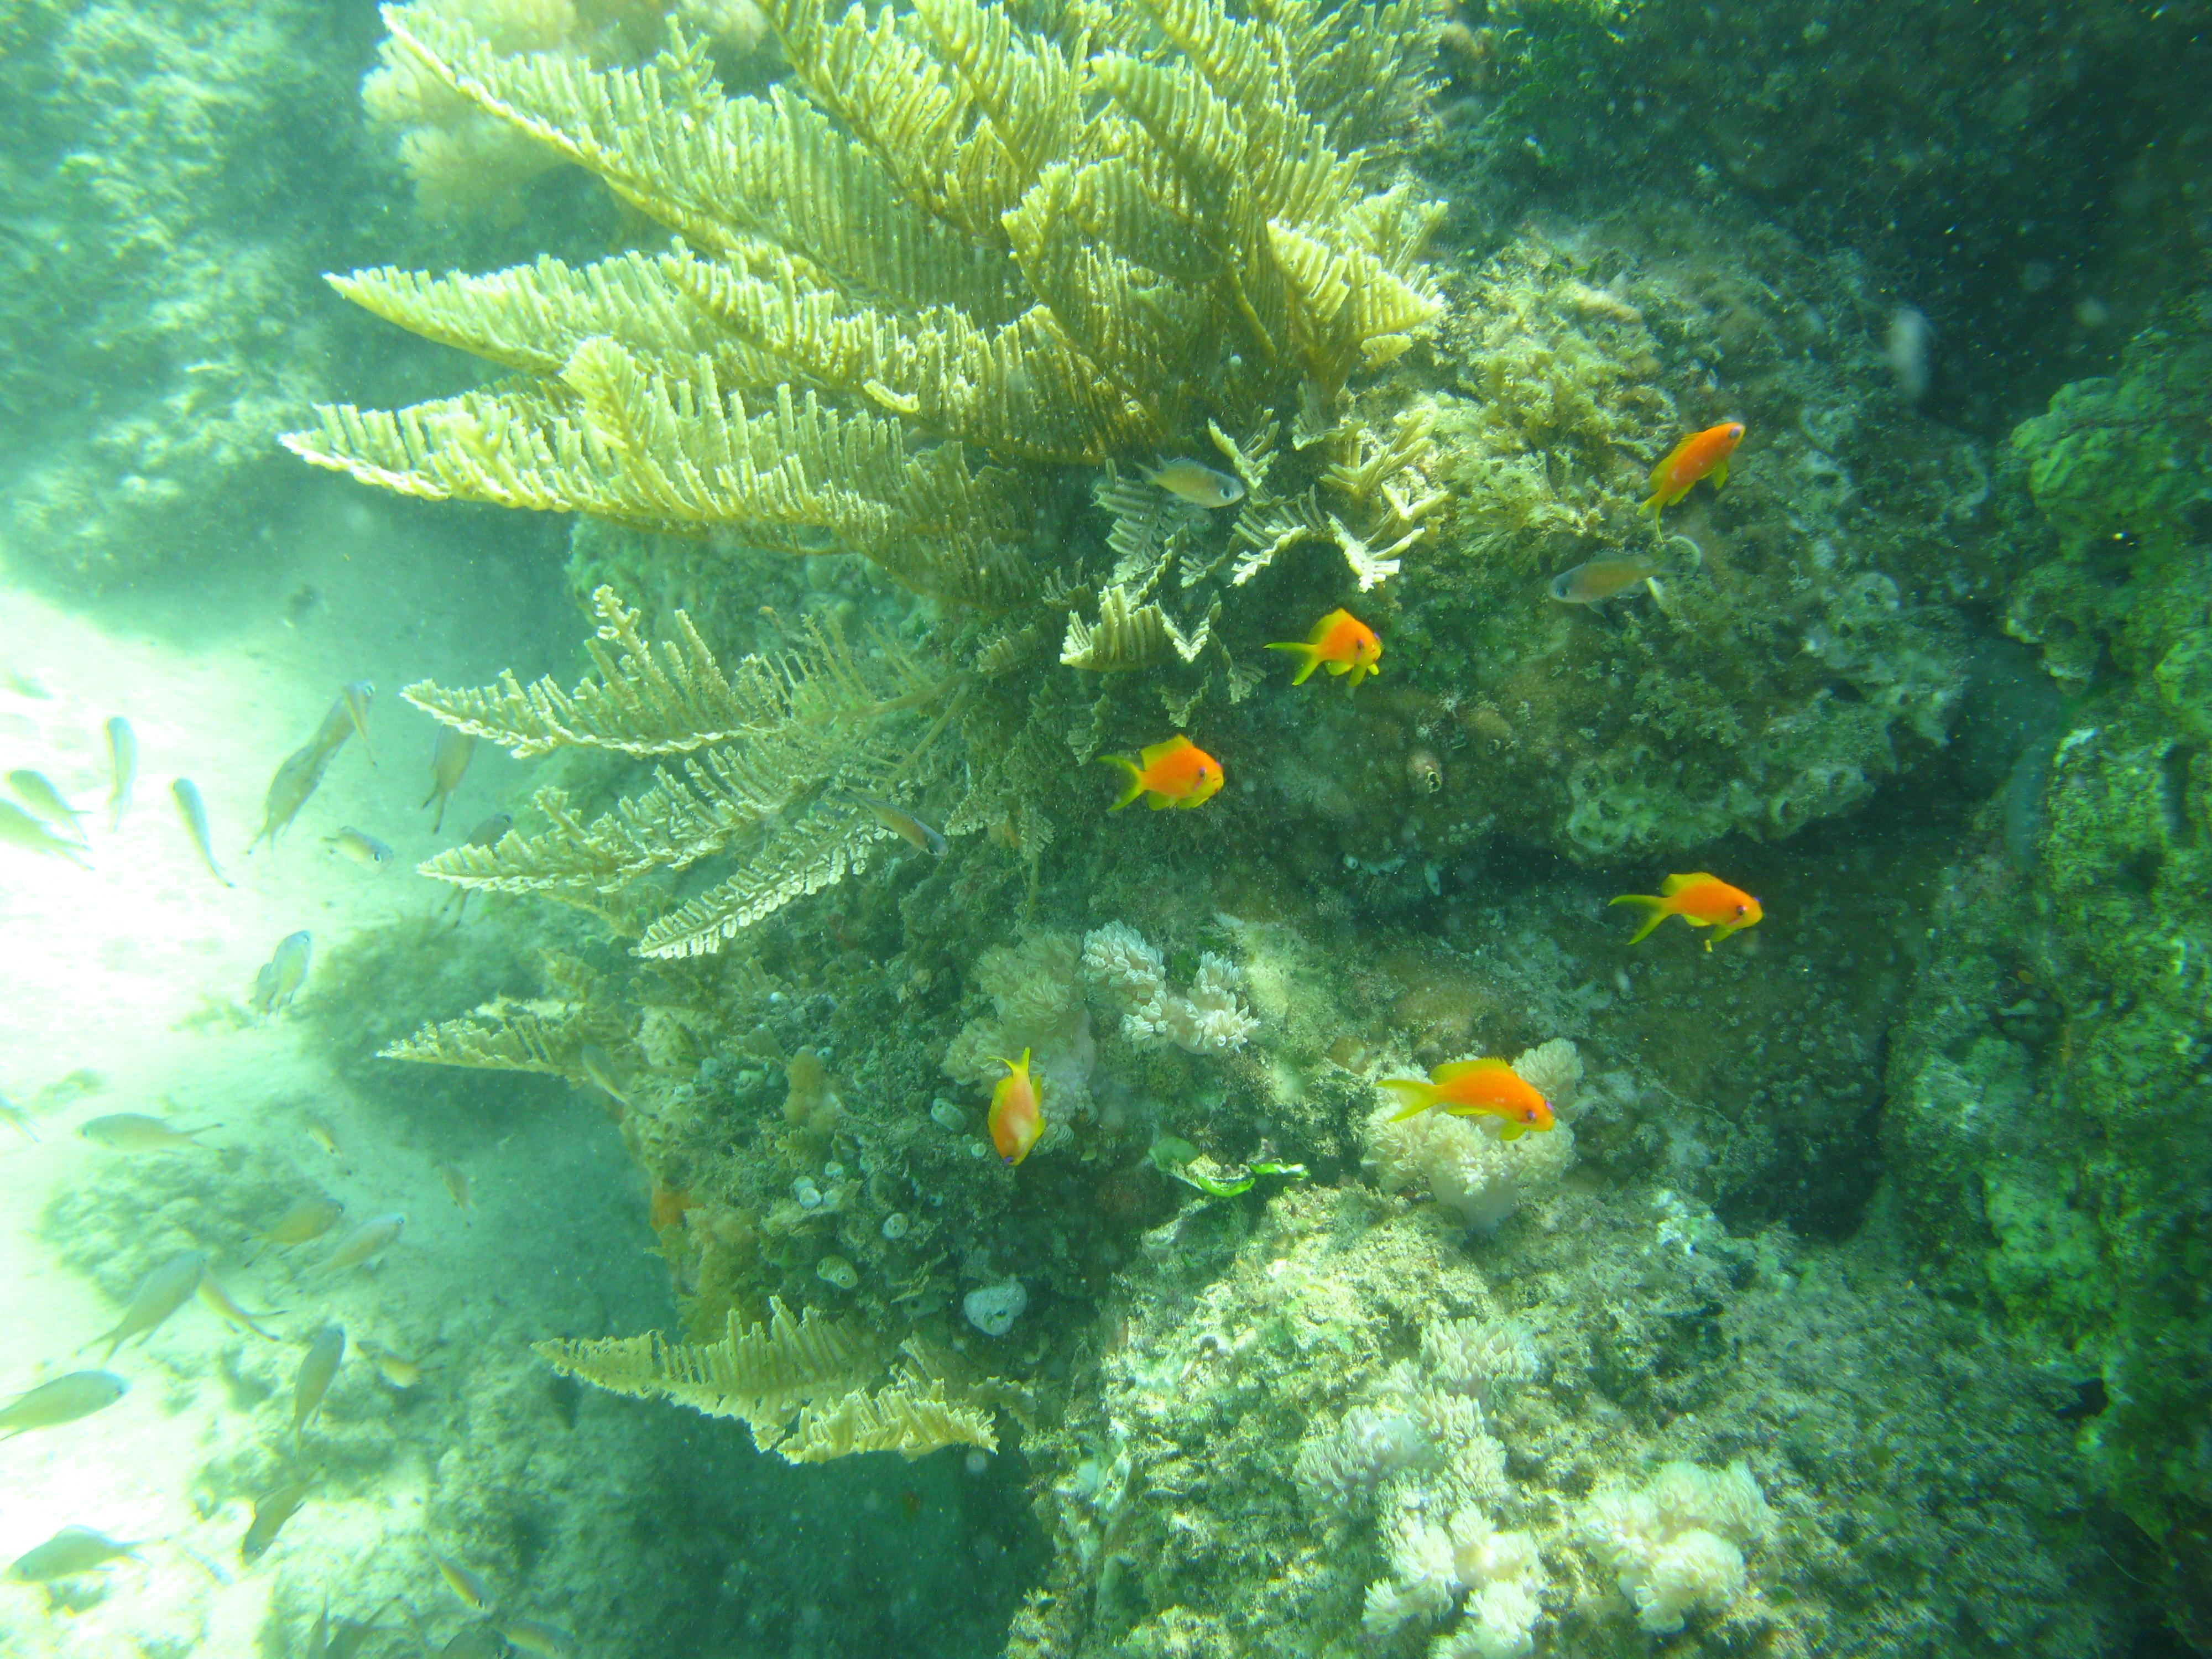Pseadanthias squamipinnis: (1562, 849, 1869, 976), (1357, 1014, 1590, 1176), (1616, 357, 1780, 547), (1059, 708, 1263, 843), (1256, 584, 1433, 706), (967, 1000, 1066, 1195)
